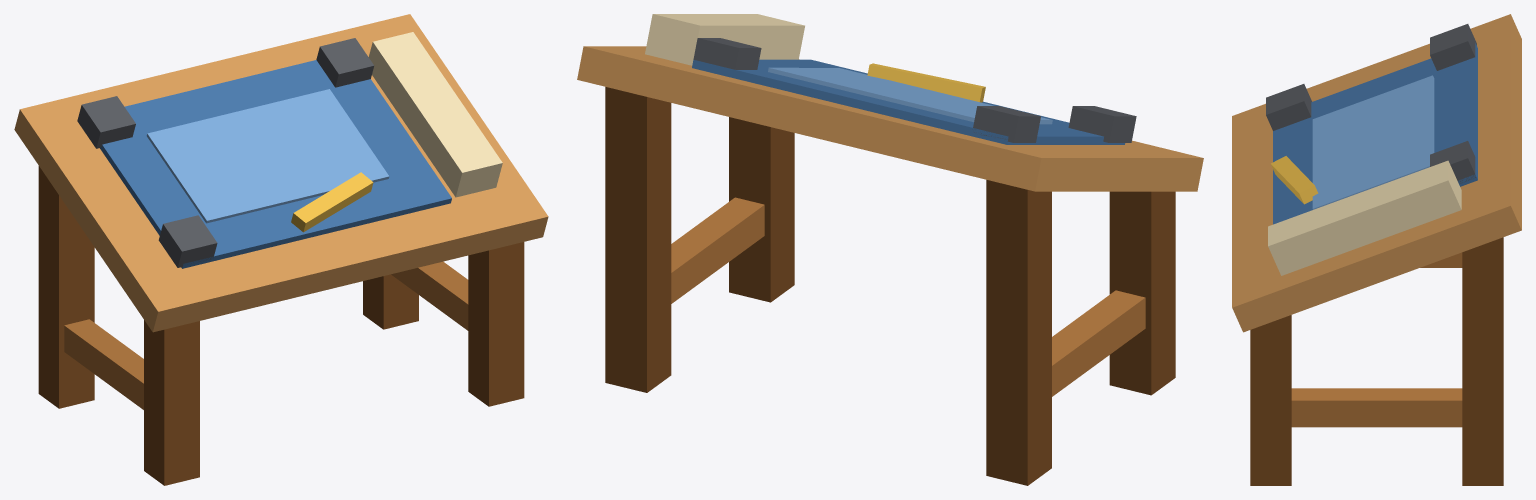
The model's file is prop-table.glb.
The picture shows the model from 3 angles, left to right: view 1: azimuth 30°, elevation 25°; view 2: azimuth 150°, elevation 25°; view 3: azimuth 270°, elevation 25°; orthographic projection. The views are drawn at different scales.
Parts seen in each view (by area): view 1: Board, Blueprint, Lines, Scroll, Leg.001, Leg.002, Leg, Strut, Strut.001, Leg.003, Weight.002, Weight (+2 smaller); view 2: Board, Leg.003, Leg.001, Leg, Leg.002, Blueprint, Scroll, Strut.001, Strut, Lines, Weight, Weight.002 (+2 smaller); view 3: Board, Lines, Scroll, Leg.003, Blueprint, Leg.002, Strut.001, Weight, Weight.002, Weight.001, Pencil, Strut.
Boxes of the visible parts, x1=… form: Board: x1=14, y1=14, x2=548, y2=332; Blueprint: x1=100, y1=60, x2=451, y2=268; Lines: x1=146, y1=89, x2=389, y2=223; Scroll: x1=368, y1=32, x2=502, y2=197; Leg.001: x1=38, y1=166, x2=94, y2=408; Leg.002: x1=468, y1=242, x2=524, y2=406; Leg: x1=144, y1=320, x2=199, y2=485; Strut: x1=64, y1=319, x2=143, y2=409; Strut.001: x1=391, y1=261, x2=468, y2=330; Leg.003: x1=363, y1=274, x2=418, y2=329; Weight.002: x1=158, y1=215, x2=217, y2=267; Weight: x1=77, y1=96, x2=135, y2=148; Board: x1=577, y1=46, x2=1203, y2=191; Leg.003: x1=605, y1=87, x2=671, y2=392; Leg.001: x1=986, y1=180, x2=1051, y2=485; Leg: x1=1109, y1=191, x2=1175, y2=395; Leg.002: x1=729, y1=117, x2=794, y2=302; Blueprint: x1=692, y1=59, x2=1125, y2=144; Scroll: x1=645, y1=14, x2=804, y2=65; Strut.001: x1=671, y1=197, x2=764, y2=303; Strut: x1=1052, y1=290, x2=1145, y2=396; Lines: x1=768, y1=67, x2=1052, y2=124; Weight: x1=972, y1=106, x2=1040, y2=142; Weight.002: x1=1068, y1=106, x2=1136, y2=142; Board: x1=1232, y1=14, x2=1521, y2=332; Lines: x1=1312, y1=75, x2=1434, y2=209; Scroll: x1=1268, y1=160, x2=1461, y2=275; Leg.003: x1=1462, y1=237, x2=1503, y2=485; Blueprint: x1=1273, y1=43, x2=1477, y2=224; Leg.002: x1=1250, y1=315, x2=1291, y2=485; Strut.001: x1=1291, y1=388, x2=1462, y2=427; Weight: x1=1430, y1=24, x2=1476, y2=70; Weight.002: x1=1266, y1=84, x2=1311, y2=130; Weight.001: x1=1430, y1=141, x2=1476, y2=183; Pencil: x1=1271, y1=156, x2=1318, y2=204; Strut: x1=1420, y1=252, x2=1462, y2=267.
Size of the model in its own units: 1.54 by 1.12 by 0.9832.
